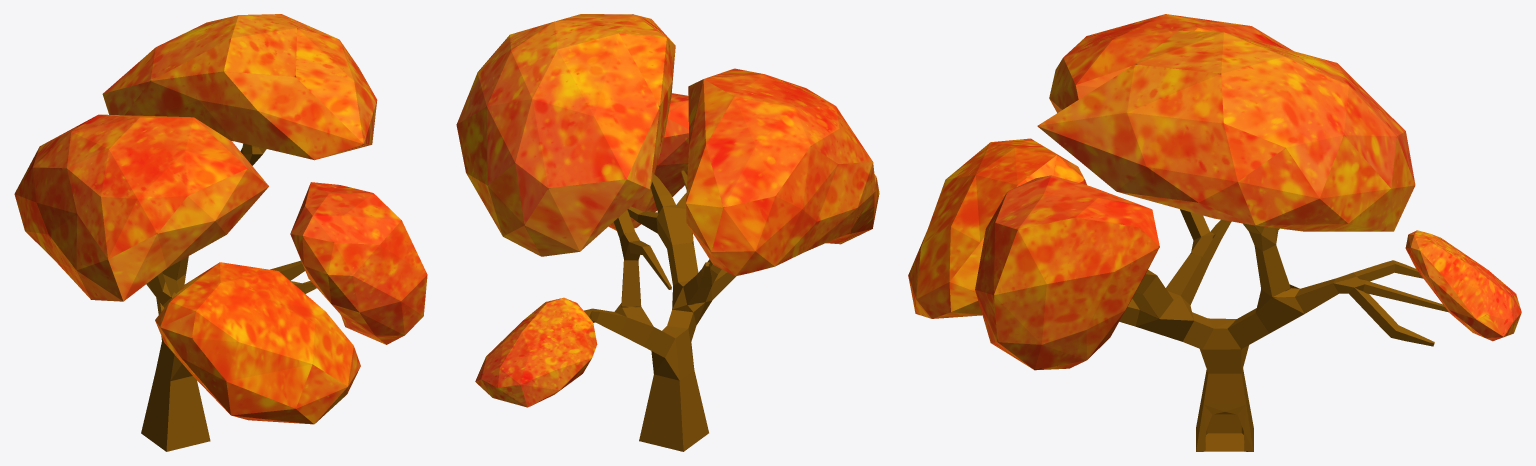
Rendered from BigTree.fbx.
3 views of the same model, side by side, from view 1: azimuth 30°, elevation 25°; view 2: azimuth 150°, elevation 25°; view 3: azimuth 270°, elevation 25° (orthographic). The views are drawn at different scales.
Parts seen in each view (by area): view 1: Cube.001; view 2: Cube.001; view 3: Cube.001.
Part boxes in pixels (x1,y1,x2,y2): Cube.001: [14, 14, 427, 451]; Cube.001: [456, 14, 879, 451]; Cube.001: [908, 14, 1521, 451].
Bounding box in the file's own units: 19112 × 21383 × 27155.
